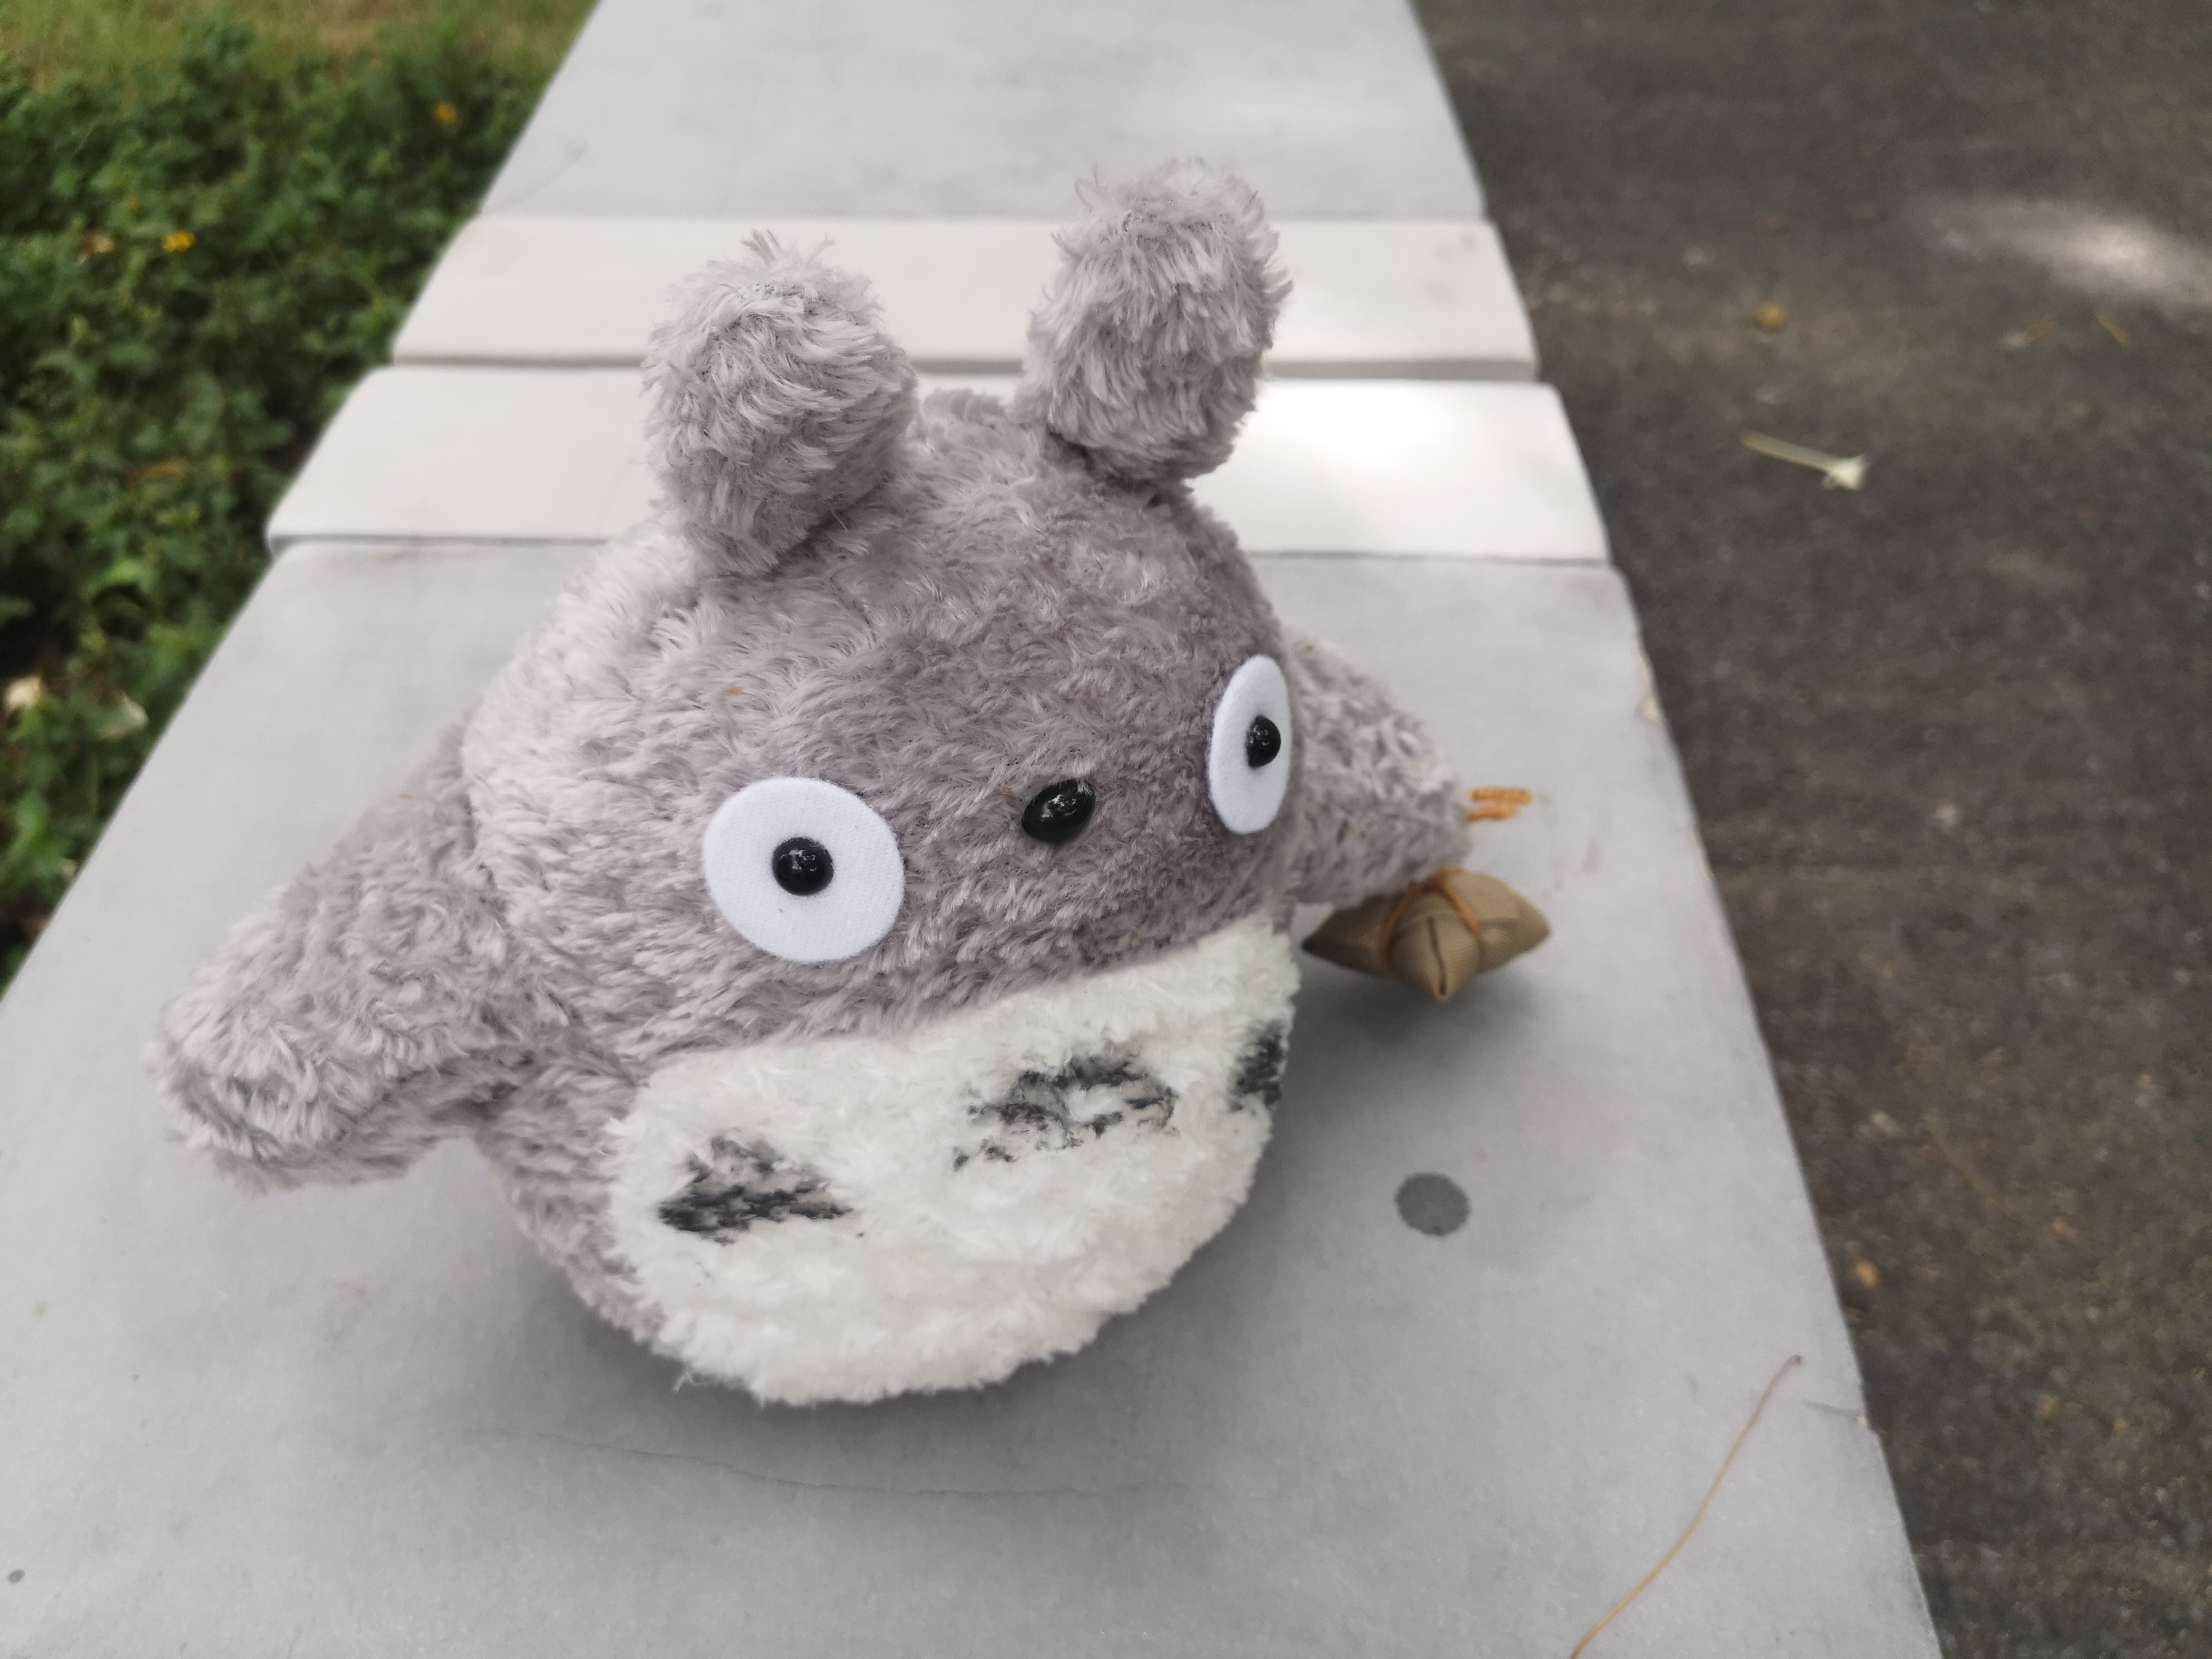totoro: (127, 143, 1573, 1462)
